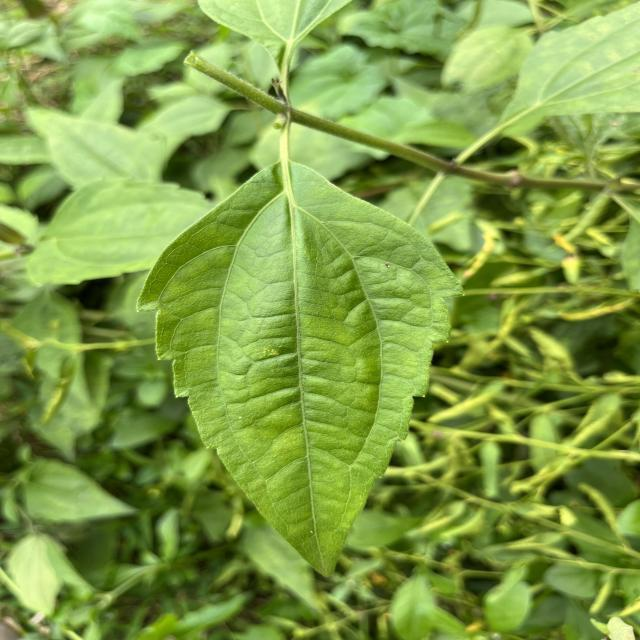Chromolaena odorata: (130, 155, 470, 582)
